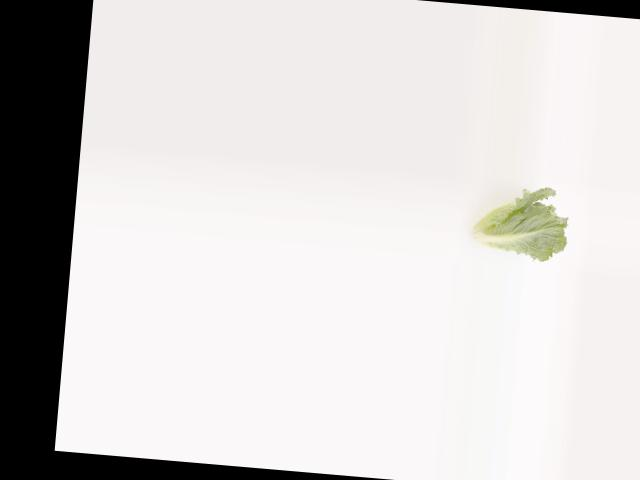lettuce: (459, 184, 574, 265)
